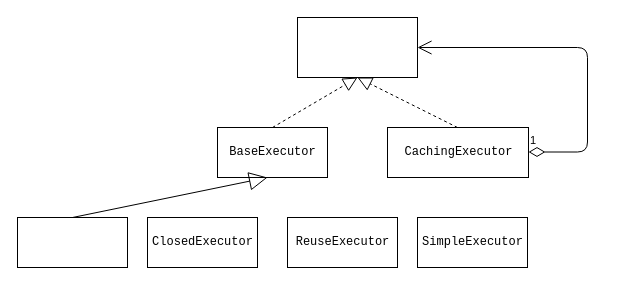
Some shapes in this 622 by 285 pixel diagram are drawn without their labels. Here are the shapes that lost their labels. From the top down, the box of each, then its label:
(296, 16, 418, 78): «interface» Executor
(16, 216, 128, 268): BatchExecutor
